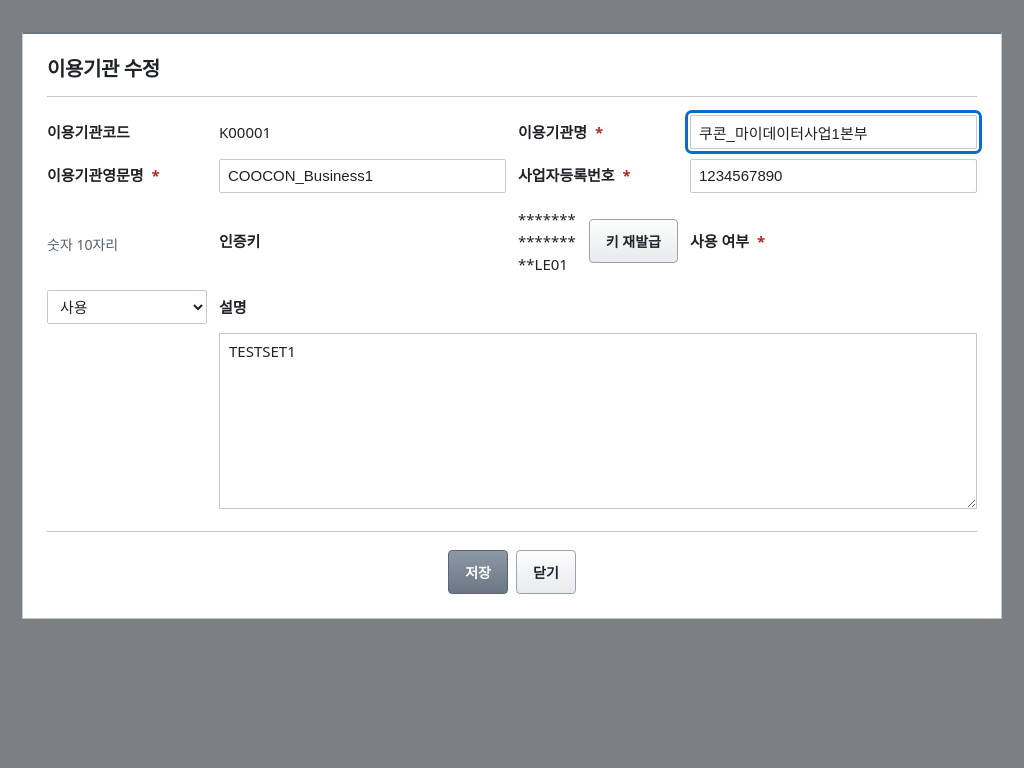
InstitutionEditDialog › 인증키 재발급 / key rotation › 확인 없이는 재발급하지 않는다 / does not rotate without confirmation
Expected: the field labelled "이용기관명 *" is shown, x1=690 y1=115 x2=977 y2=149
Click the button "키 재발급" at {"x": 633, "y": 241}, box x1=589 y1=219 x2=678 y2=263
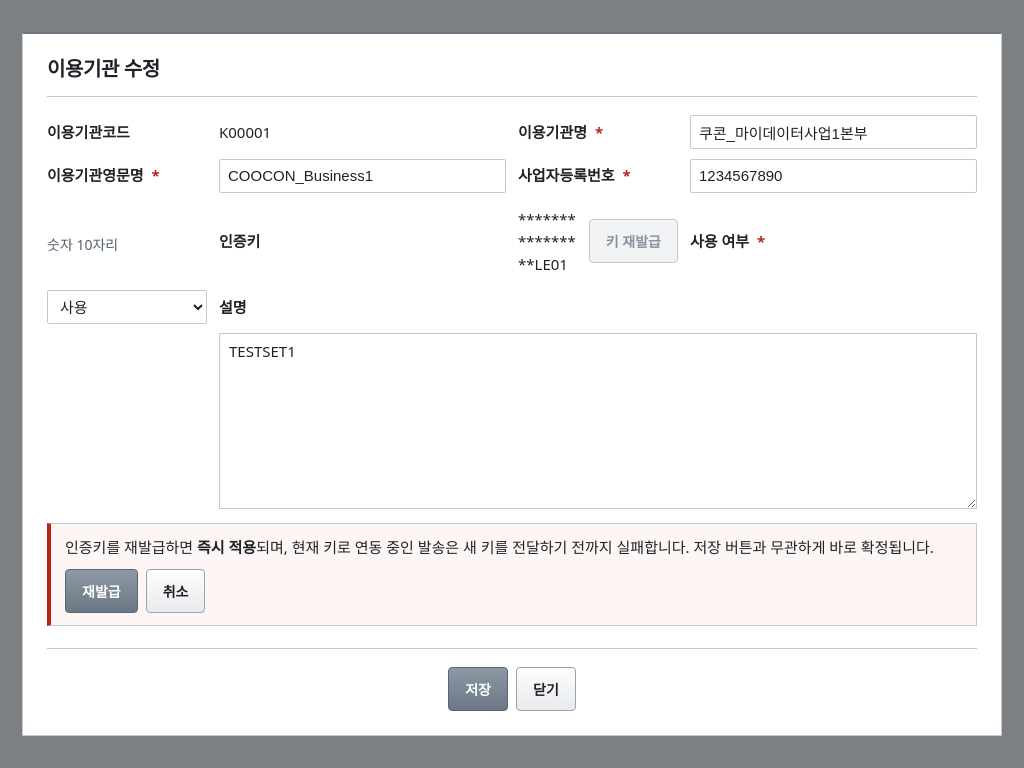
Expected: the text "즉시 적용" is shown, x1=197 y1=537 x2=256 y2=557
